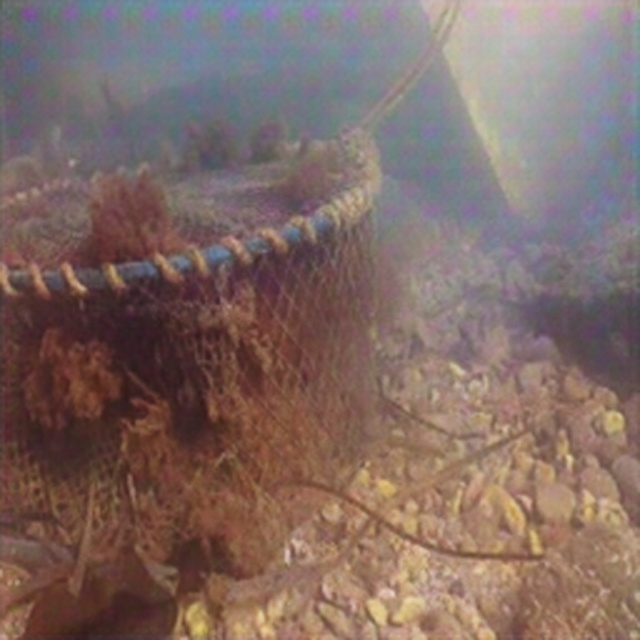mine: (0, 139, 382, 561)
